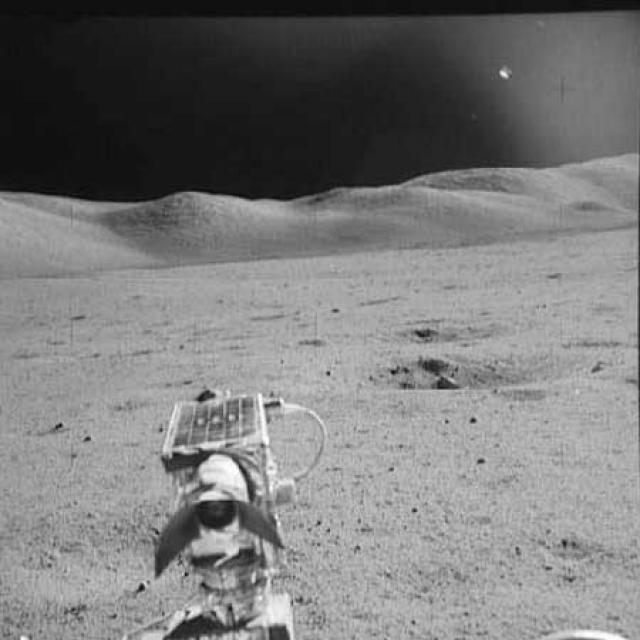artifact: (130, 377, 328, 638)
crater: (360, 348, 579, 397), (379, 316, 508, 349)
